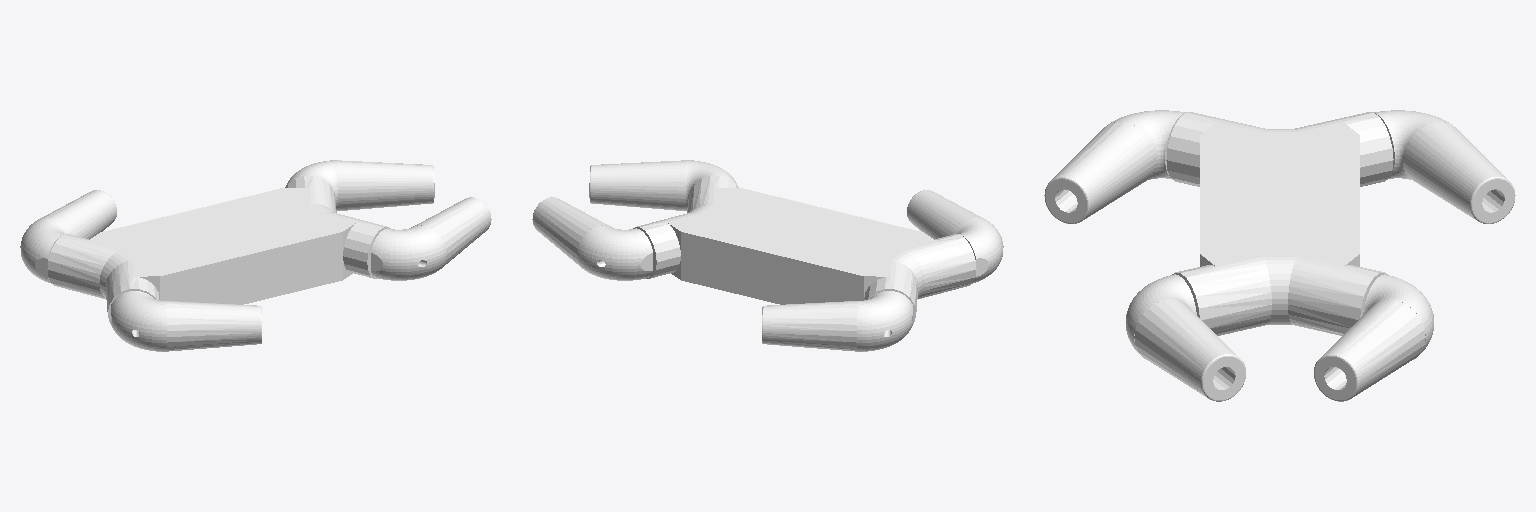
URDF robot description (28_degree):
<?xml version="1.0" encoding="utf-8"?>
<!-- This URDF was automatically created by SolidWorks to URDF Exporter! Originally created by [author] ([email redacted]) 
     Commit Version: 1.5.1-0-g916b5db  Build Version: 1.5.7152.31018
     For more information, please see http://wiki.ros.org/sw_urdf_exporter -->
<robot
  name="28_degree">
  <link
    name="base_link">
    <inertial>
      <origin
        xyz="-1.3878E-17 8.084E-08 3.4694E-18"
        rpy="0 0 0" />
      <mass
        value="2.942" />
      <inertia
        ixx="0.0099280"
        ixy="-5.0955E-19"
        ixz="-8.8884E-09"
        iyy="0.0484915"
        iyz="3.1416E-18"
        izz="0.0557670" />
    </inertial>
    <visual>
      <origin
        xyz="0 0 0"
        rpy="0 0 0" />
      <geometry>
        <mesh
          filename="package://28_degree/meshes/base_link.STL" />
      </geometry>
      <material
        name="">
        <color
          rgba="1 1 1 1" />
      </material>
    </visual>
    <collision>
      <origin
        xyz="0 0 0"
        rpy="0 0 0" />
      <geometry>
        <mesh
          filename="package://28_degree/meshes/base_link.STL" />
      </geometry>
    </collision>
  </link>
  <link
    name="left_front_link">
    <inertial>
      <origin
        xyz="-8.9942E-08 0.056834 -0.03601"
        rpy="0 0 0" />
      <mass
        value="0.095" />
      <inertia
        ixx="0.0002672"
        ixy="4.9465E-10"
        ixz="6.1391E-10"
        iyy="0.0000540"
        iyz="2.33E-05"
        izz="0.0002642" />
    </inertial>
    <visual>
      <origin
        xyz="0 0 0"
        rpy="0 0 0" />
      <geometry>
        <mesh
          filename="package://28_degree/meshes/left_front_link.STL" />
      </geometry>
      <material
        name="">
        <color
          rgba="1 1 1 1" />
      </material>
    </visual>
    <collision>
      <origin
        xyz="0 0 0"
        rpy="0 0 0" />
      <geometry>
        <mesh
          filename="package://28_degree/meshes/left_front_link.STL" />
      </geometry>
    </collision>
  </link>
  <joint
    name="left_front_leg"
    type="continuous">
    <origin
      xyz="0.17836 0.090944 0"
      rpy="2.0595 1.5708 0" />
    <parent
      link="base_link" />
    <child
      link="left_front_link" />
    <axis
      xyz="0 0 -1" />
    <limit
      effort="5"
      velocity="487" />
  </joint>
  <link
    name="right_front_link">
    <inertial>
      <origin
        xyz="8.9942E-08 0.056834 0.03601"
        rpy="0 0 0" />
      <mass
        value="0.095" />
      <inertia
        ixx="0.0002672"
        ixy="-4.9465E-10"
        ixz="6.1391E-10"
        iyy="0.0000540"
        iyz="-2.33E-05"
        izz="0.0002642" />
    </inertial>
    <visual>
      <origin
        xyz="0 0 0"
        rpy="0 0 0" />
      <geometry>
        <mesh
          filename="package://28_degree/meshes/right_front_link.STL" />
      </geometry>
      <material
        name="">
        <color
          rgba="1 1 1 1" />
      </material>
    </visual>
    <collision>
      <origin
        xyz="0 0 0"
        rpy="0 0 0" />
      <geometry>
        <mesh
          filename="package://28_degree/meshes/right_front_link.STL" />
      </geometry>
    </collision>
  </link>
  <joint
    name="right_front_leg"
    type="continuous">
    <origin
      xyz="0.17836 -0.090944 0"
      rpy="1.0821 1.5708 0" />
    <parent
      link="base_link" />
    <child
      link="right_front_link" />
    <axis
      xyz="0 0 1" />
    <limit
      effort="5"
      velocity="487" />
  </joint>
  <link
    name="right_back_link">
    <inertial>
      <origin
        xyz="8.1709E-08 0.056834 0.03601"
        rpy="0 0 0" />
      <mass
        value="0.095" />
      <inertia
        ixx="0.0002672"
        ixy="-4.5205E-10"
        ixz="6.0402E-10"
        iyy="0.0000540"
        iyz="-2.33E-05"
        izz="0.0002642" />
    </inertial>
    <visual>
      <origin
        xyz="0 0 0"
        rpy="0 0 0" />
      <geometry>
        <mesh
          filename="package://28_degree/meshes/right_back_link.STL" />
      </geometry>
      <material
        name="">
        <color
          rgba="1 1 1 1" />
      </material>
    </visual>
    <collision>
      <origin
        xyz="0 0 0"
        rpy="0 0 0" />
      <geometry>
        <mesh
          filename="package://28_degree/meshes/right_back_link.STL" />
      </geometry>
    </collision>
  </link>
  <joint
    name="right_back_leg"
    type="continuous">
    <origin
      xyz="-0.17836 -0.090944 0"
      rpy="2.0595 1.5708 0" />
    <parent
      link="base_link" />
    <child
      link="right_back_link" />
    <axis
      xyz="0 0 1" />
    <limit
      effort="5"
      velocity="487" />
  </joint>
  <link
    name="left_back_link">
    <inertial>
      <origin
        xyz="-8.1709E-08 0.056834 -0.03601"
        rpy="0 0 0" />
      <mass
        value="0.095" />
      <inertia
        ixx="0.0002672"
        ixy="4.5205E-10"
        ixz="6.0402E-10"
        iyy="0.0000540"
        iyz="2.33E-05"
        izz="0.0002642" />
    </inertial>
    <visual>
      <origin
        xyz="0 0 0"
        rpy="0 0 0" />
      <geometry>
        <mesh
          filename="package://28_degree/meshes/left_back_link.STL" />
      </geometry>
      <material
        name="">
        <color
          rgba="1 1 1 1" />
      </material>
    </visual>
    <collision>
      <origin
        xyz="0 0 0"
        rpy="0 0 0" />
      <geometry>
        <mesh
          filename="package://28_degree/meshes/left_back_link.STL" />
      </geometry>
    </collision>
  </link>
  <joint
    name="left_back_leg"
    type="continuous">
    <origin
      xyz="-0.17836 0.090944 0"
      rpy="1.0821 1.5708 0" />
    <parent
      link="base_link" />
    <child
      link="left_back_link" />
    <axis
      xyz="0 0 -1" />
    <limit
      effort="5"
      velocity="487" />
  </joint>
</robot>

--- Facts derived from the render (not from the file) ---
3 views of the same robot in one strip: view 1: azimuth 30°, elevation 25°; view 2: azimuth 150°, elevation 25°; view 3: azimuth 270°, elevation 25° (orthographic).
Robot: 28_degree — 5 links, 4 joints (4 continuous); root link base_link; default pose: every joint at zero.
Links seen in each view (by area): view 1: base_link, right_back_link, right_front_link, left_front_link, left_back_link; view 2: base_link, left_back_link, left_front_link, right_front_link, right_back_link; view 3: base_link, left_front_link, right_front_link, right_back_link, left_back_link.
Boxes of the visible links, x1,y1,x2,y2 form: base_link: (47,176,390,323); right_back_link: (111,291,261,351); right_front_link: (371,197,491,280); left_front_link: (285,160,434,210); left_back_link: (20,190,116,282); base_link: (633,176,976,323); left_back_link: (762,291,912,351); left_front_link: (532,197,652,280); right_front_link: (589,160,738,210); right_back_link: (907,190,1003,282); base_link: (1166,112,1393,335); left_front_link: (1314,274,1433,401); right_front_link: (1126,274,1245,401); right_back_link: (1044,110,1185,223); left_back_link: (1374,110,1515,223).
Bounding box of the posed robot: 0.5632 × 0.4424 × 0.0672 m (x, y, z).
Meshes: 5 distinct files referenced, 5 mesh visuals loaded (5 binary STL).